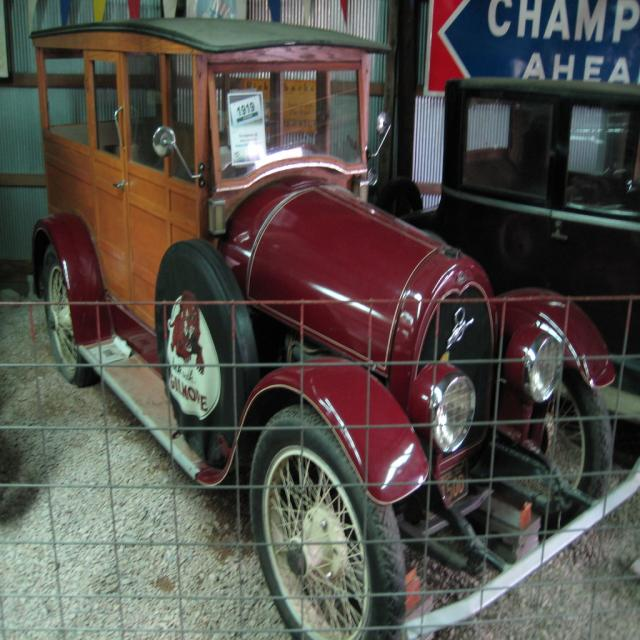Passenger Car: (25, 14, 616, 638)
